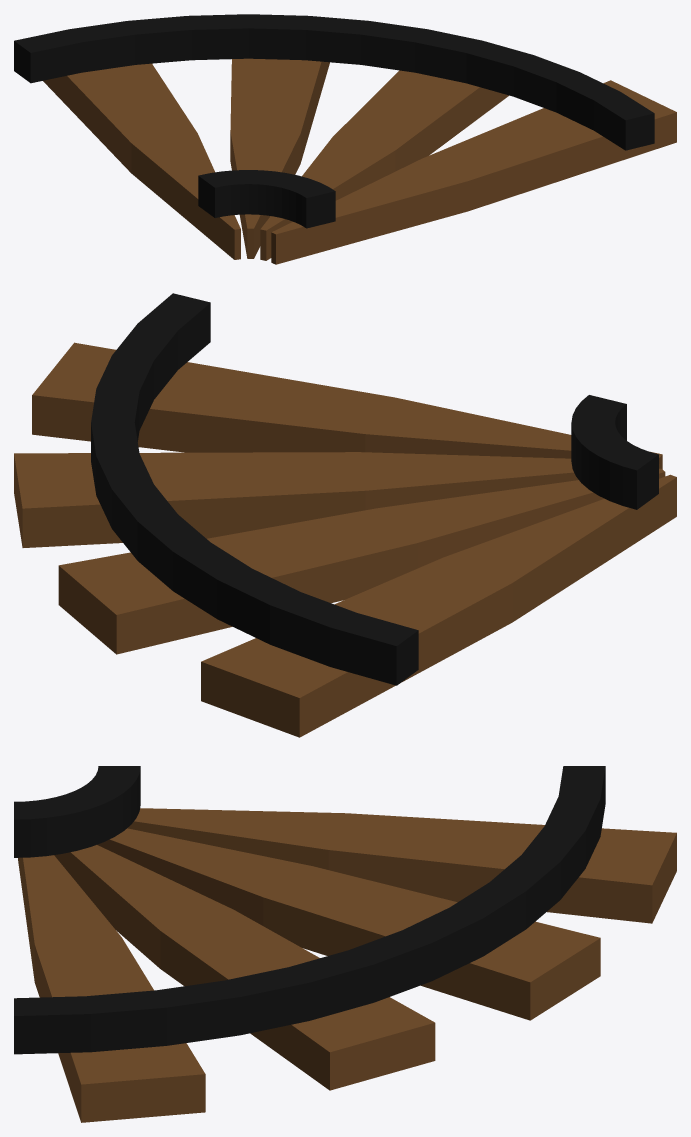
The model's file is rail_l.obj.
3 renders of one model, top to bottom at view 1: azimuth 30°, elevation 25°; view 2: azimuth 150°, elevation 25°; view 3: azimuth 270°, elevation 25°, orthographic. The views are drawn at different scales.
Parts seen in each view (by area): view 1: rail_left; view 2: rail_left; view 3: rail_left.
Boxes of the visible parts, box(x1,y1,x2,y2) form: rail_left: box(14, 14, 676, 264); rail_left: box(14, 293, 676, 737); rail_left: box(14, 766, 676, 1122).
Bounding box in the file's own units: 1.57 × 0.2 × 1.57.
